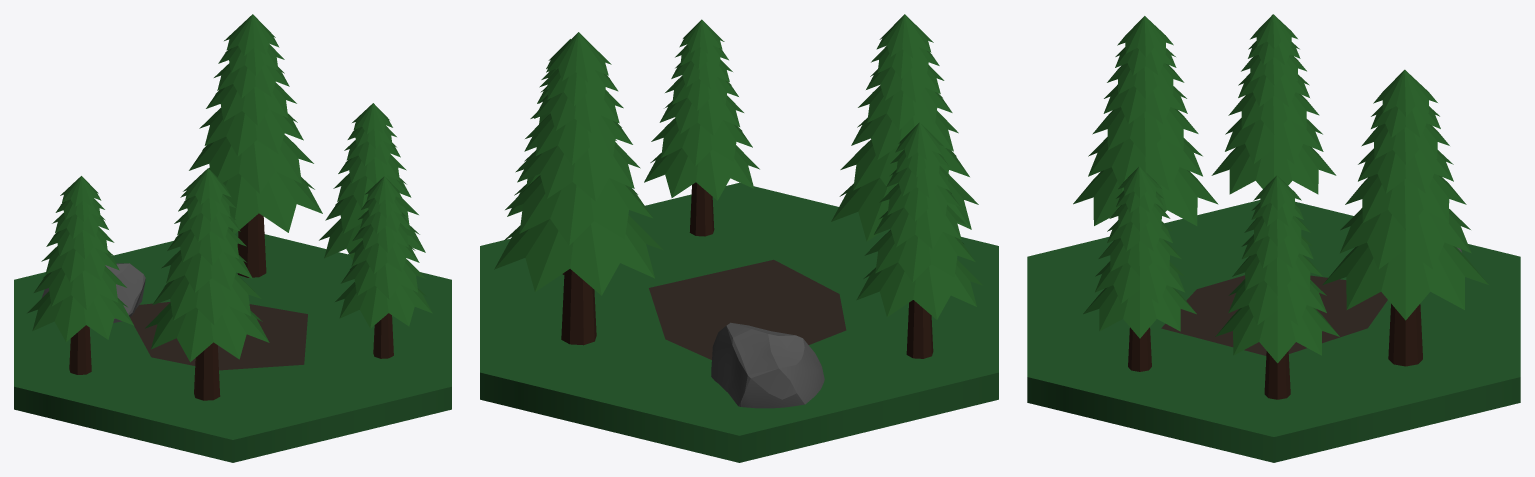
The model's file is Tile_2.FBX.
3 renders of one model, left to right at view 1: azimuth 30°, elevation 25°; view 2: azimuth 150°, elevation 25°; view 3: azimuth 270°, elevation 25°, orthographic. The views are drawn at different scales.
Visible parts, largest first — view 1: Ground; view 2: Ground; view 3: Ground.
Part boxes in pixels (x1,y1,x2,y2): Ground: (14, 14, 451, 462); Ground: (480, 14, 998, 462); Ground: (1027, 14, 1520, 462).
Bounding box in the file's own units: 39.37 × 25.23 × 34.1.
